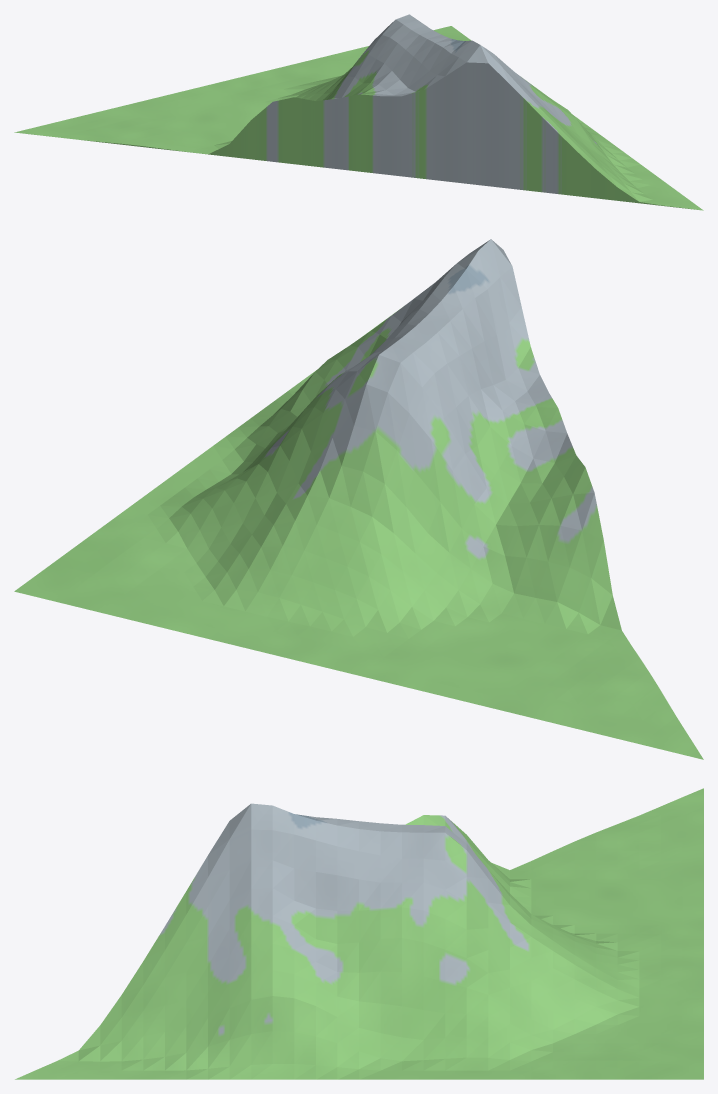
The model's file is Grass_RockyMountains_05_SE.obj.
3 views of the same model, one above another, from view 1: azimuth 30°, elevation 25°; view 2: azimuth 150°, elevation 25°; view 3: azimuth 270°, elevation 25° (orthographic). The views are drawn at different scales.
Size of the model in its own units: 10 by 2.96 by 10.
Materials: 1 (1 with a texture image).
